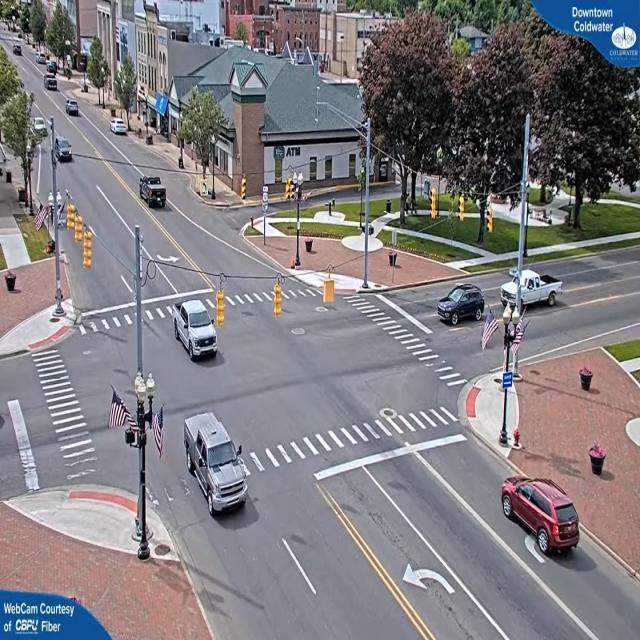car: (186, 413, 252, 518), (501, 478, 581, 558), (173, 298, 220, 358), (438, 282, 487, 326), (522, 270, 564, 312), (140, 177, 170, 210), (53, 135, 73, 161), (112, 120, 130, 137), (66, 98, 80, 116), (46, 76, 59, 92)
